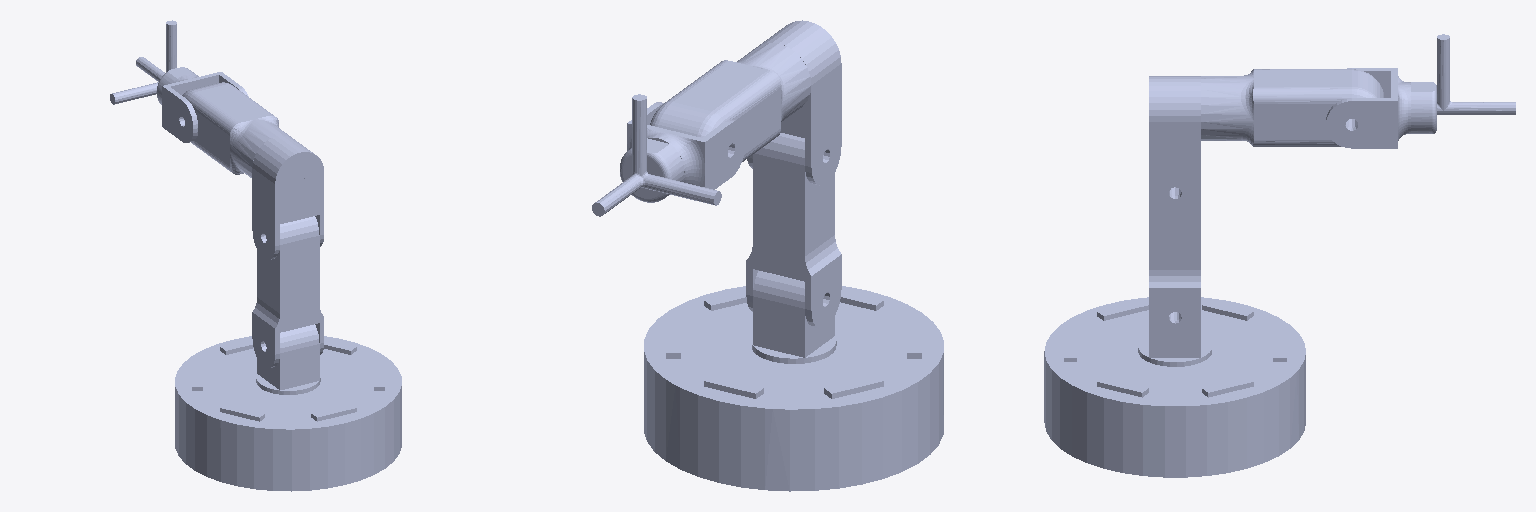
The robot description file, URDF, robot "DOF":
<?xml version="1.0" encoding="utf-8"?>
<!-- This URDF was automatically created by SolidWorks to URDF Exporter! Originally created by [author] ([email redacted]) 
     Commit Version: 1.6.0-4-g7f85cfe  Build Version: 1.6.7995.38578
     For more information, please see http://wiki.ros.org/sw_urdf_exporter -->
<robot
  name="DOF">
  <link
    name="base_link">
    <inertial>
      <origin
        xyz="9.82303687450347E-20 0.0149477232172278 -5.79426431854157E-19"
        rpy="0 0 0" />
      <mass
        value="0.233677856365645" />
      <inertia
        ixx="0.000165802946683648"
        ixy="-5.86095130205183E-22"
        ixz="4.05835488033829E-21"
        iyy="0.000296329731641364"
        iyz="-1.803657355605E-21"
        izz="0.000165802946683648" />
    </inertial>
    <visual>
      <origin
        xyz="0 0 0"
        rpy="0 0 0" />
      <geometry>
        <mesh
          filename="package://DOF/meshes/base_link.STL" />
      </geometry>
      <material
        name="">
        <color
          rgba="0.792156862745098 0.819607843137255 0.933333333333333 1" />
      </material>
    </visual>
    <collision>
      <origin
        xyz="0 0 0"
        rpy="0 0 0" />
      <geometry>
        <mesh
          filename="package://DOF/meshes/base_link.STL" />
      </geometry>
    </collision>
  </link>
  <link
    name="L1">
    <inertial>
      <origin
        xyz="-1.88872101613979E-17 1.85680272930851E-20 0.00927432460875134"
        rpy="0 0 0" />
      <mass
        value="0.0143471232869168" />
      <inertia
        ixx="2.12177320624765E-06"
        ixy="-8.46804832760958E-23"
        ixz="1.05617618024192E-22"
        iyy="2.10806964454254E-06"
        iyz="1.56118316145004E-22"
        izz="9.32299348577374E-07" />
    </inertial>
    <visual>
      <origin
        xyz="0 0 0"
        rpy="0 0 0" />
      <geometry>
        <mesh
          filename="package://DOF/meshes/L1.STL" />
      </geometry>
      <material
        name="">
        <color
          rgba="0.792156862745098 0.819607843137255 0.933333333333333 1" />
      </material>
    </visual>
    <collision>
      <origin
        xyz="0 0 0"
        rpy="0 0 0" />
      <geometry>
        <mesh
          filename="package://DOF/meshes/L1.STL" />
      </geometry>
    </collision>
  </link>
  <joint
    name="J1"
    type="revolute">
    <origin
      xyz="0 0 0.03"
      rpy="0 0 1.5708" />
    <parent
      link="base_link" />
    <child
      link="L1" />
    <axis
      xyz="0 0 1" />
    <limit
      lower="-1.57"
      upper="1.57"
      effort="0"
      velocity="0" />
  </joint>
  <link
    name="L2">
    <inertial>
      <origin
        xyz="0.0318036090643631 1.71643159340604E-17 -3.68041370051351E-17"
        rpy="0 0 0" />
      <mass
        value="0.0218942430386523" />
      <inertia
        ixx="1.64119620067033E-06"
        ixy="4.90740011837521E-23"
        ixz="3.13395838308239E-22"
        iyy="7.12449078763676E-06"
        iyz="-8.36151268458513E-24"
        izz="6.90865188528047E-06" />
    </inertial>
    <visual>
      <origin
        xyz="0 0 0"
        rpy="0 0 0" />
      <geometry>
        <mesh
          filename="package://DOF/meshes/L2.STL" />
      </geometry>
      <material
        name="">
        <color
          rgba="0.792156862745098 0.819607843137255 0.933333333333333 1" />
      </material>
    </visual>
    <collision>
      <origin
        xyz="0 0 0"
        rpy="0 0 0" />
      <geometry>
        <mesh
          filename="package://DOF/meshes/L2.STL" />
      </geometry>
    </collision>
  </link>
  <joint
    name="J2"
    type="revolute">
    <origin
      xyz="0 0 0.02"
      rpy="1.5708 -1.5708 0" />
    <parent
      link="L1" />
    <child
      link="L2" />
    <axis
      xyz="0 0 1" />
    <limit
      lower="-1.57"
      upper="1.57"
      effort="0"
      velocity="0" />
  </joint>
  <link
    name="L3">
    <inertial>
      <origin
        xyz="0.0224145914482569 1.21059348673255E-17 4.17984740101743E-17"
        rpy="0 0 0" />
      <mass
        value="0.0162032628325081" />
      <inertia
        ixx="1.46306818301817E-06"
        ixy="8.48545580412451E-23"
        ixz="3.36915716857782E-22"
        iyy="2.98985840571389E-06"
        iyz="1.71527244366697E-22"
        izz="2.60015596401038E-06" />
    </inertial>
    <visual>
      <origin
        xyz="0 0 0"
        rpy="0 0 0" />
      <geometry>
        <mesh
          filename="package://DOF/meshes/L3.STL" />
      </geometry>
      <material
        name="">
        <color
          rgba="0.792156862745098 0.819607843137255 0.933333333333333 1" />
      </material>
    </visual>
    <collision>
      <origin
        xyz="0 0 0"
        rpy="0 0 0" />
      <geometry>
        <mesh
          filename="package://DOF/meshes/L3.STL" />
      </geometry>
    </collision>
  </link>
  <joint
    name="J3"
    type="revolute">
    <origin
      xyz="0.0525 0 0"
      rpy="0 0 0" />
    <parent
      link="L2" />
    <child
      link="L3" />
    <axis
      xyz="0 0 -1" />
    <limit
      lower="-1.57"
      upper="1.57"
      effort="0"
      velocity="0" />
  </joint>
  <link
    name="L4">
    <inertial>
      <origin
        xyz="-5.3508081299114E-10 -3.71190641995303E-09 -0.0441504737134913"
        rpy="0 0 0" />
      <mass
        value="0.038253532624055" />
      <inertia
        ixx="1.62262504509542E-05"
        ixy="-2.52853162894711E-13"
        ixz="4.70788493900399E-13"
        iyy="1.61954742875067E-05"
        iyz="2.37727514468824E-12"
        izz="3.48393384673887E-06" />
    </inertial>
    <visual>
      <origin
        xyz="0 0 0"
        rpy="0 0 0" />
      <geometry>
        <mesh
          filename="package://DOF/meshes/L4.STL" />
      </geometry>
      <material
        name="">
        <color
          rgba="0.792156862745098 0.819607843137255 0.933333333333333 1" />
      </material>
    </visual>
    <collision>
      <origin
        xyz="0 0 0"
        rpy="0 0 0" />
      <geometry>
        <mesh
          filename="package://DOF/meshes/L4.STL" />
      </geometry>
    </collision>
  </link>
  <joint
    name="J4"
    type="revolute">
    <origin
      xyz="0.03 0 0"
      rpy="-1.5708 0 0" />
    <parent
      link="L3" />
    <child
      link="L4" />
    <axis
      xyz="0 0 -1" />
    <limit
      lower="-1.57"
      upper="1.57"
      effort="0"
      velocity="0" />
  </joint>
  <link
    name="L5">
    <inertial>
      <origin
        xyz="5.91161453122879E-10 -0.0122190585225825 2.34658686769598E-09"
        rpy="0 0 0" />
      <mass
        value="0.00534779938775355" />
      <inertia
        ixx="9.78910055781953E-07"
        ixy="8.7302710629624E-14"
        ixz="1.23211470982036E-12"
        iyy="7.54089575589643E-07"
        iyz="1.09594224587228E-13"
        izz="5.57875026158984E-07" />
    </inertial>
    <visual>
      <origin
        xyz="0 0 0"
        rpy="0 0 0" />
      <geometry>
        <mesh
          filename="package://DOF/meshes/L5.STL" />
      </geometry>
      <material
        name="">
        <color
          rgba="0.792156862745098 0.819607843137255 0.933333333333333 1" />
      </material>
    </visual>
    <collision>
      <origin
        xyz="0 0 0"
        rpy="0 0 0" />
      <geometry>
        <mesh
          filename="package://DOF/meshes/L5.STL" />
      </geometry>
    </collision>
  </link>
  <joint
    name="J5"
    type="revolute">
    <origin
      xyz="0 0 -0.0675"
      rpy="1.5708 0 0" />
    <parent
      link="L4" />
    <child
      link="L5" />
    <axis
      xyz="0 0 1" />
    <limit
      lower="-1.57"
      upper="1.57"
      effort="0"
      velocity="0" />
  </joint>
  <link
    name="L6">
    <inertial>
      <origin
        xyz="-0.000163847359302471 1.57987624945776E-08 0.00466180874046621"
        rpy="0 0 0" />
      <mass
        value="0.00306027164130821" />
      <inertia
        ixx="1.07581619864225E-07"
        ixy="-3.39506804355927E-13"
        ixz="-5.61558092008758E-11"
        iyy="1.02985919632292E-07"
        iyz="-2.48534223067044E-13"
        izz="1.47678108882252E-07" />
    </inertial>
    <visual>
      <origin
        xyz="0 0 0"
        rpy="0 0 0" />
      <geometry>
        <mesh
          filename="package://DOF/meshes/L6.STL" />
      </geometry>
      <material
        name="">
        <color
          rgba="0.792156862745098 0.819607843137255 0.933333333333333 1" />
      </material>
    </visual>
    <collision>
      <origin
        xyz="0 0 0"
        rpy="0 0 0" />
      <geometry>
        <mesh
          filename="package://DOF/meshes/L6.STL" />
      </geometry>
    </collision>
  </link>
  <joint
    name="J6"
    type="revolute">
    <origin
      xyz="0 -0.0225 0"
      rpy="1.5708 0 0" />
    <parent
      link="L5" />
    <child
      link="L6" />
    <axis
      xyz="0 0 -1" />
    <limit
      lower="-1.57"
      upper="1.57"
      effort="0"
      velocity="0" />
  </joint>
  <link
    name="EE">
    <inertial>
      <origin
        xyz="0.00511269870462672 -0.00511236386254974 0.00668194414671204"
        rpy="0 0 0" />
      <mass
        value="0.00171890855943974" />
      <inertia
        ixx="2.42342781972555E-07"
        ixy="-4.49388604941093E-08"
        ixz="3.67549825055354E-08"
        iyy="2.42347897015706E-07"
        iyz="-3.67564431610746E-08"
        izz="2.6705157432335E-07" />
    </inertial>
    <visual>
      <origin
        xyz="0 0 0"
        rpy="0 0 0" />
      <geometry>
        <mesh
          filename="package://DOF/meshes/EE.STL" />
      </geometry>
      <material
        name="">
        <color
          rgba="0.792156862745098 0.819607843137255 0.933333333333333 1" />
      </material>
    </visual>
    <collision>
      <origin
        xyz="0 0 0"
        rpy="0 0 0" />
      <geometry>
        <mesh
          filename="package://DOF/meshes/EE.STL" />
      </geometry>
    </collision>
  </link>
  <joint
    name="EE"
    type="fixed">
    <origin
      xyz="0 0 0.01"
      rpy="0 0 0" />
    <parent
      link="L6" />
    <child
      link="EE" />
    <axis
      xyz="0 0 0" />
  </joint>
</robot>

--- Facts derived from the render (not from the file) ---
Views: 3 orthographic renders of the robot side by side, from view 1: azimuth 30°, elevation 25°; view 2: azimuth 150°, elevation 25°; view 3: azimuth 270°, elevation 25°.
Robot: DOF — 8 links, 7 joints (6 revolute, 1 fixed); root link base_link; default pose: every joint at zero.
Visible links, largest first — view 1: base_link, L2, L3, L4, L1, L5, EE; view 2: base_link, L2, L4, L3, L1, L5, EE, L6; view 3: base_link, L4, L3, L2, L5, L1, EE, L6.
Boxes of the visible links, x1,y1,x2,y2 form: base_link: (175, 336, 401, 491); L2: (252, 216, 323, 367); L3: (252, 135, 323, 259); L4: (182, 82, 304, 183); L1: (256, 324, 320, 394); L5: (162, 72, 248, 142); EE: (110, 20, 176, 104); base_link: (644, 286, 943, 491); L2: (746, 133, 841, 328); L4: (650, 43, 810, 161); L3: (747, 20, 841, 185); L1: (752, 271, 836, 363); L5: (627, 102, 746, 189); EE: (592, 94, 721, 216); L6: (620, 138, 683, 202); base_link: (1044, 297, 1305, 477); L4: (1201, 69, 1383, 146); L3: (1149, 76, 1200, 216); L2: (1149, 187, 1200, 340); L5: (1326, 68, 1410, 148); L1: (1138, 312, 1211, 366); EE: (1437, 34, 1515, 114); L6: (1411, 82, 1436, 133).
Size in the robot's own frame: 0.0997 by 0.18 by 0.1625 metres.
8 mesh visuals loaded from 8 distinct referenced files (8 binary STL).